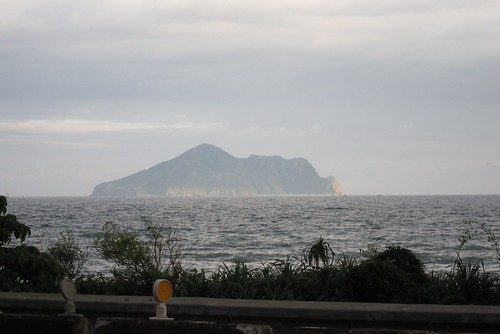turtleIsland: (88, 140, 345, 197)
